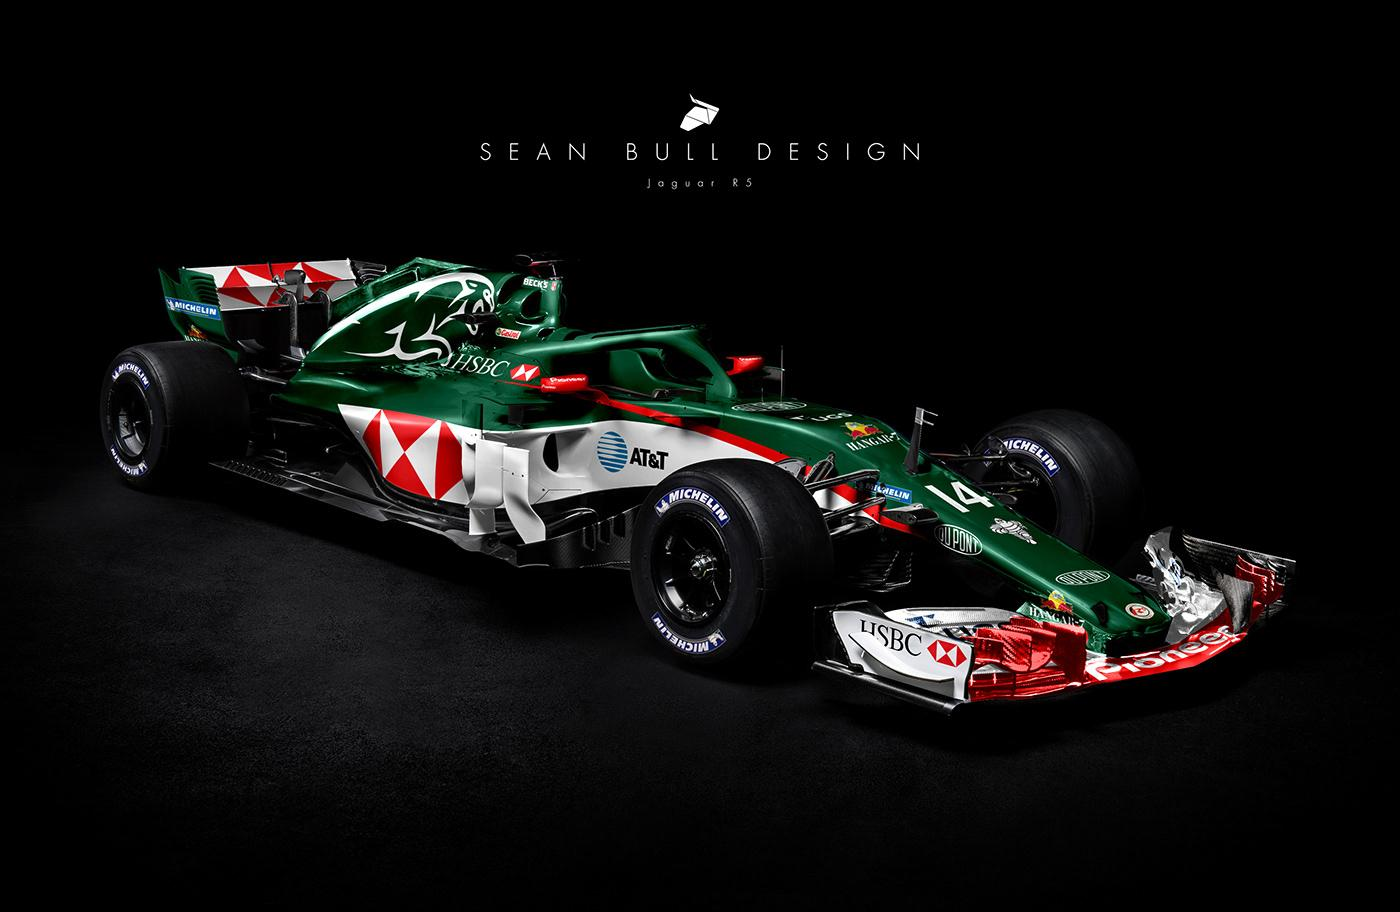f1_car: (81, 226, 1308, 730)
